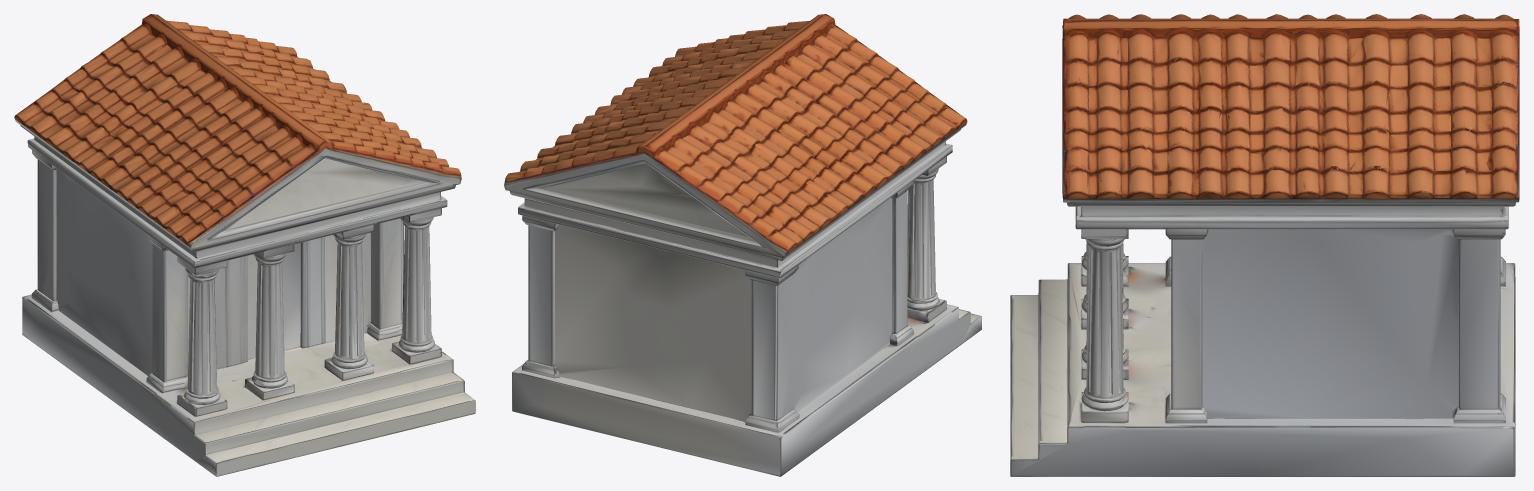
The model's file is temple.glb.
3 views of the same model, side by side, from view 1: azimuth 30°, elevation 25°; view 2: azimuth 150°, elevation 25°; view 3: azimuth 270°, elevation 25° (orthographic). The views are drawn at different scales.
Visible parts, largest first — view 1: temple; view 2: temple; view 3: temple.
Part boxes in pixels (<box>): temple: <box>14,14,475,476</box>; temple: <box>504,14,981,476</box>; temple: <box>1010,14,1519,476</box>.
Bounding box in the file's own units: 9 × 8.96 × 11.02.
1 material, 1 textured.
